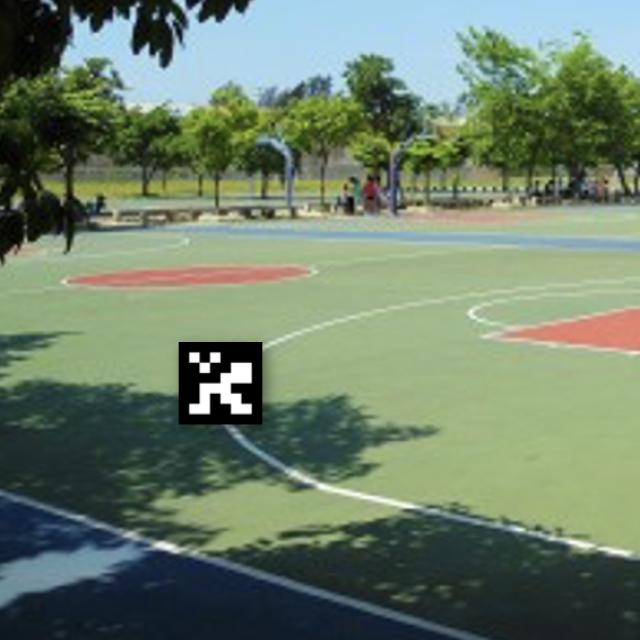marker: (172, 330, 275, 435)
